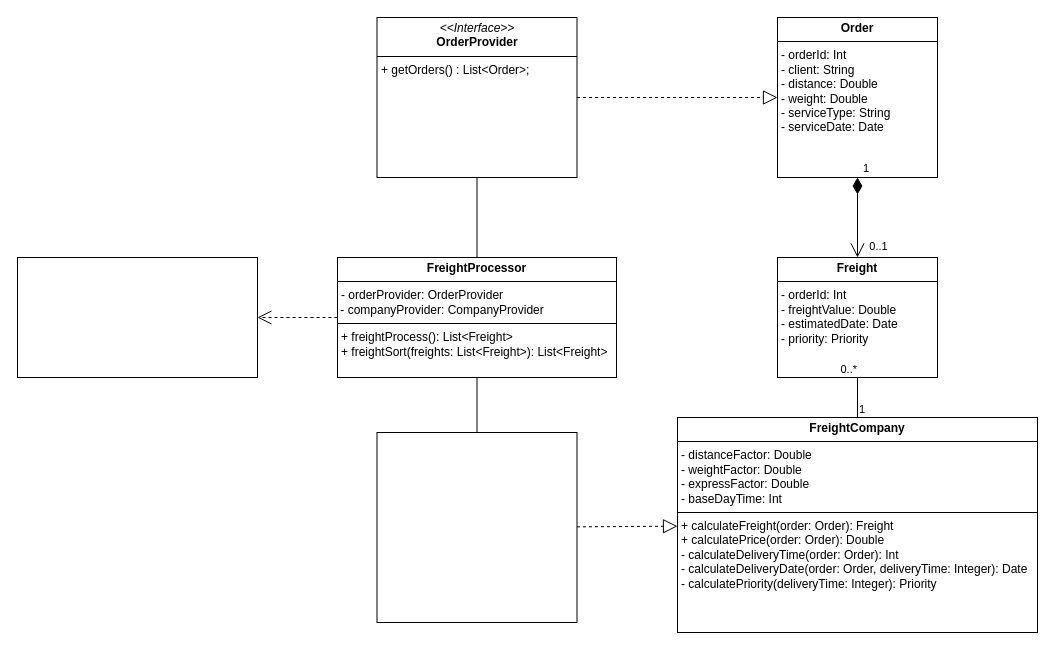
This 1055x650 diagram has some shape labels left out. Each missing label, with the centre of its shape:
<<Interface>> CompanyProvider +getCompany(): FreightCompany: the point at 476,527
<<Interface>> FreightExporter + exportFreights(List<Freight> freights): the point at 137,317
